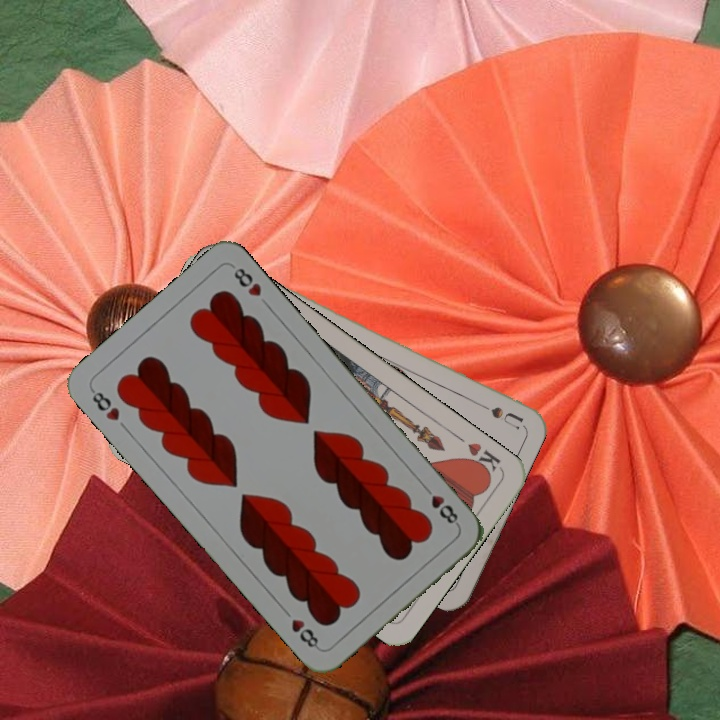H8: (418, 480, 462, 529), (86, 385, 123, 424)
HK: (461, 438, 505, 479)
SU: (467, 395, 525, 430)
